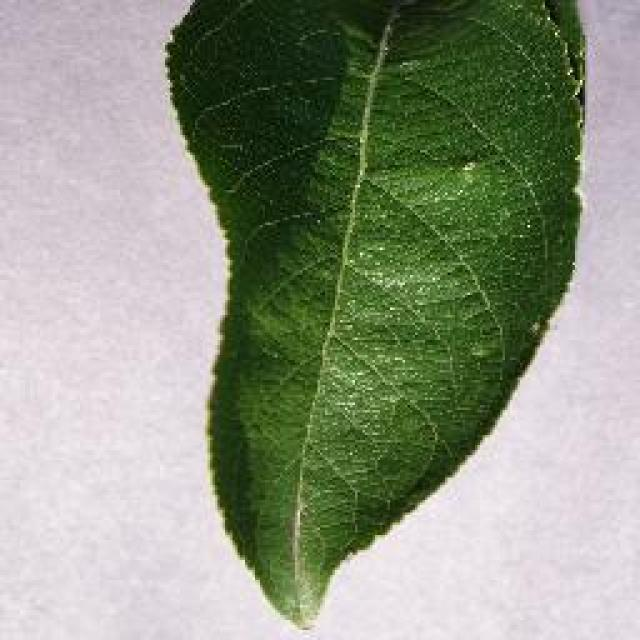apple healthy: (160, 0, 590, 630)
